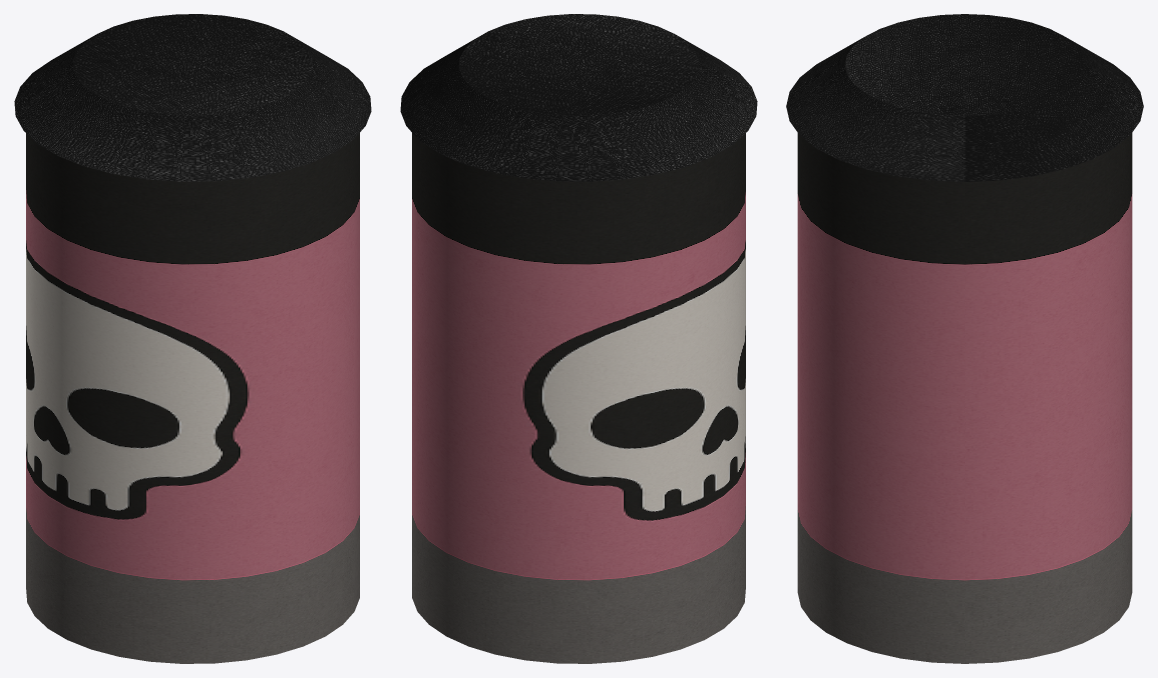
Rendered from foco3.obj.
3 views of the same model, side by side, from view 1: azimuth 30°, elevation 25°; view 2: azimuth 150°, elevation 25°; view 3: azimuth 270°, elevation 25° (orthographic).
Visible parts, largest first — view 1: Cylinder, Cylinder.001; view 2: Cylinder, Cylinder.001; view 3: Cylinder, Cylinder.001.
Part boxes in pixels (x1=…): Cylinder: x1=26, y1=133, x2=359, y2=663; Cylinder.001: x1=14, y1=14, x2=371, y2=181; Cylinder: x1=412, y1=133, x2=745, y2=663; Cylinder.001: x1=400, y1=14, x2=757, y2=181; Cylinder: x1=797, y1=133, x2=1132, y2=663; Cylinder.001: x1=786, y1=14, x2=1143, y2=181.
Bounding box in the file's own units: 2.14 × 3.49 × 2.14.
2 materials, 2 textured.
